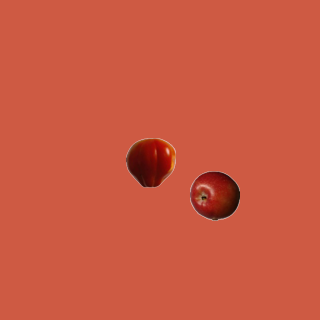Apple Braeburn: (189, 170, 239, 220)
Tomato 1: (125, 137, 175, 187)
